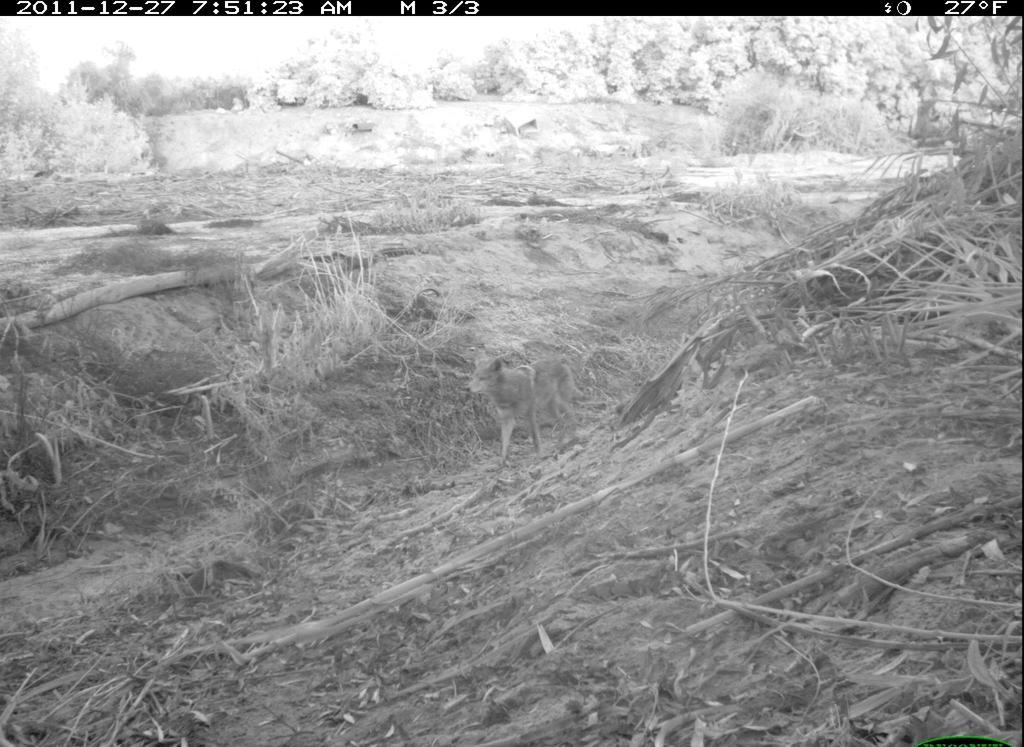coyote: (461, 351, 585, 465)
